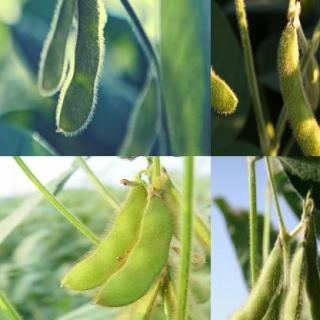soya: (60, 189, 145, 289), (95, 198, 172, 308), (57, 0, 101, 135), (276, 24, 319, 156), (224, 244, 283, 319), (38, 0, 76, 95), (211, 4, 239, 116), (279, 248, 306, 319), (115, 282, 160, 320), (304, 226, 319, 320), (195, 214, 210, 266)
